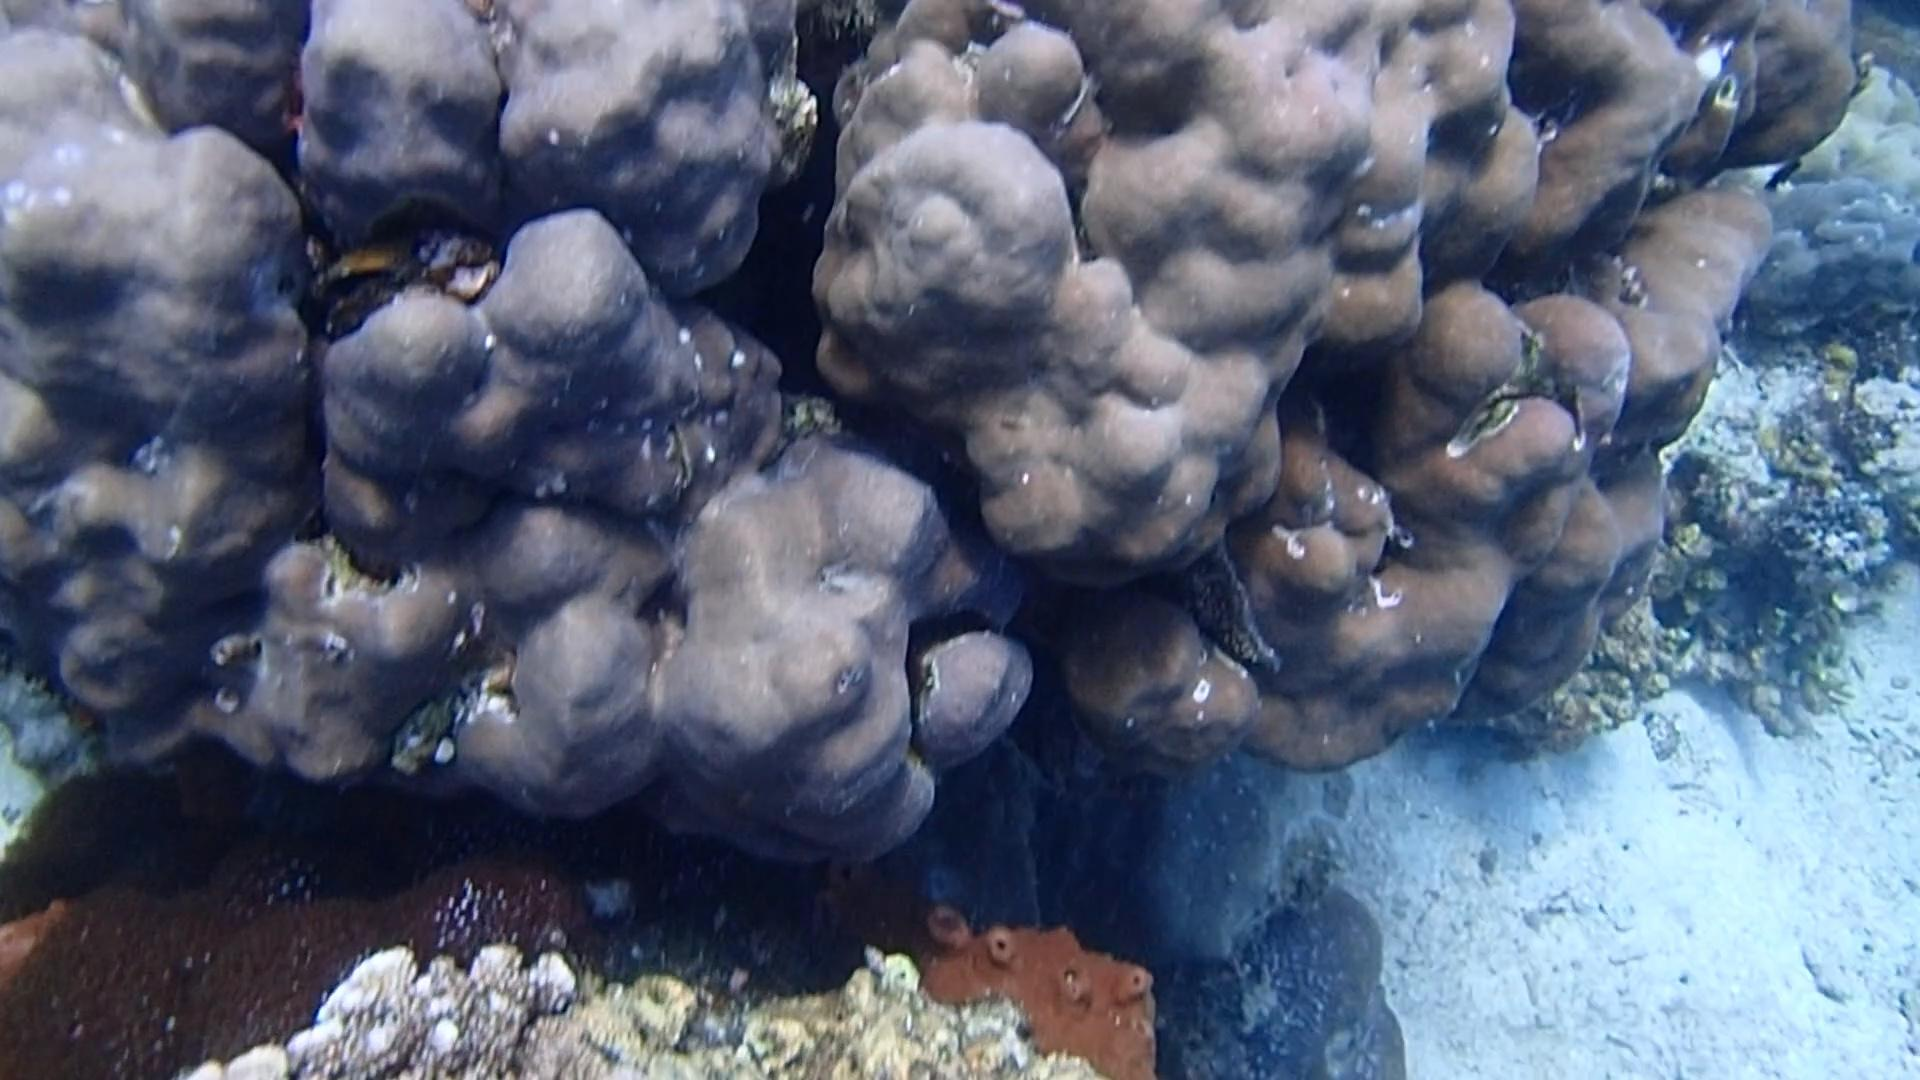Dark Fish: (1751, 149, 1809, 196)
